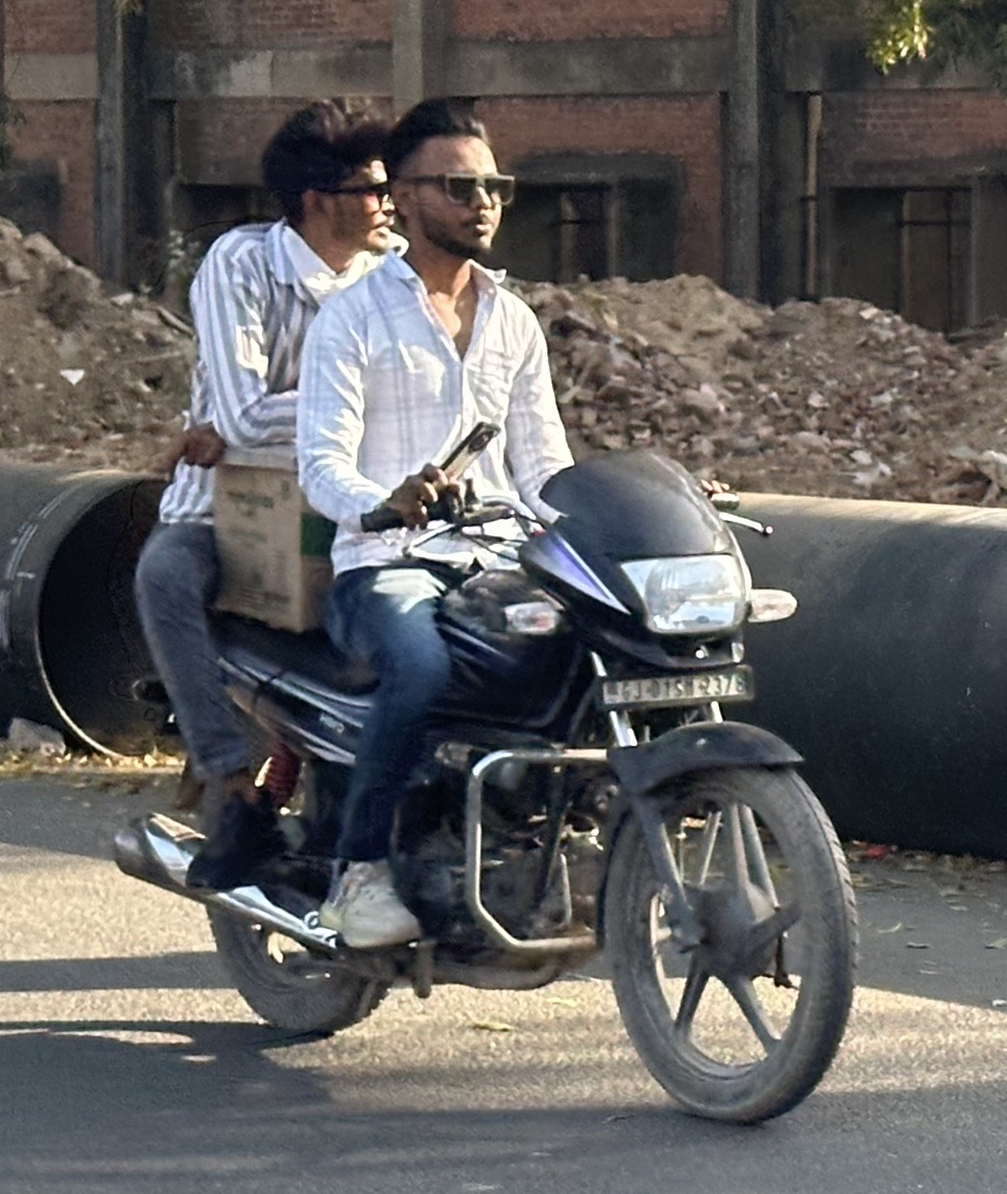Helmet: (90, 77, 878, 1139)
NoHelmet: (244, 86, 418, 267), (371, 87, 529, 270)
